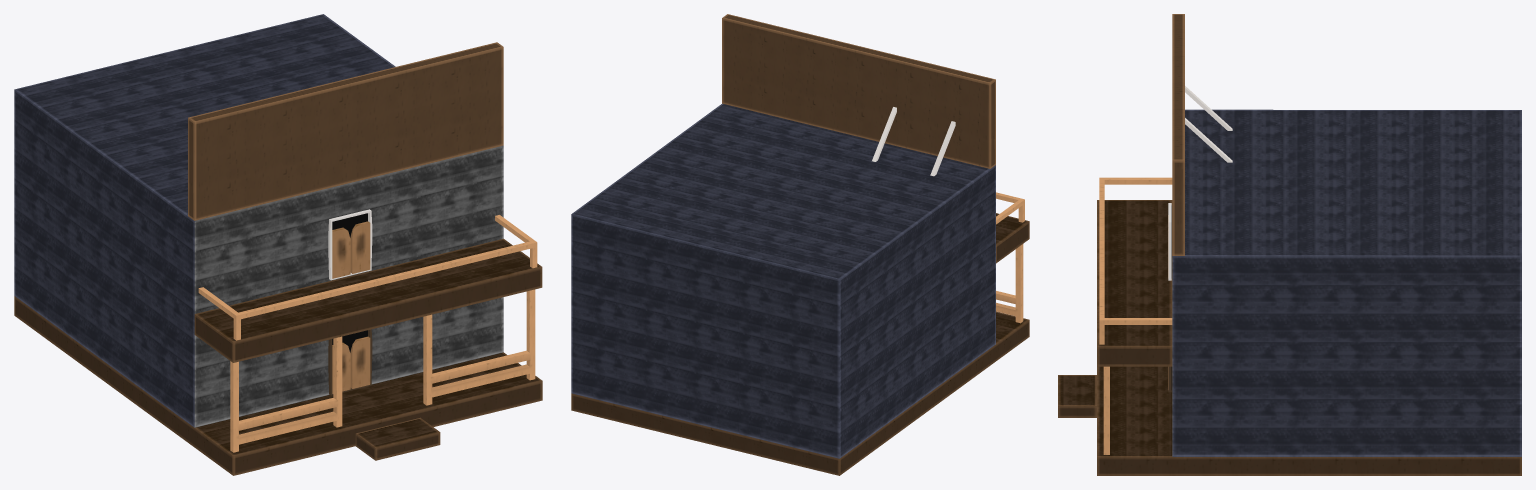
File: Building1.glb
The picture shows the model from 3 angles, left to right: view 1: azimuth 30°, elevation 25°; view 2: azimuth 150°, elevation 25°; view 3: azimuth 270°, elevation 25°; orthographic projection. The views are drawn at different scales.
Visible parts, largest first — view 1: Cube.008, Cube.003, Cube.002; view 2: Cube.008, Cube.003, Cube.009; view 3: Cube.008, Cube.003, Cube.009.
Part boxes in pixels (<box>): Cube.008: <box>14,14,542,475</box>; Cube.003: <box>198,213,537,452</box>; Cube.002: <box>328,209,372,280</box>; Cube.008: <box>571,14,1029,475</box>; Cube.003: <box>996,192,1024,323</box>; Cube.009: <box>872,107,955,176</box>; Cube.008: <box>1058,14,1521,475</box>; Cube.003: <box>1099,177,1172,454</box>; Cube.009: <box>1185,86,1232,162</box>.
Size of the model in its own units: 13.77 by 13.84 by 18.44.
Materials: 3 (3 with a texture image).
